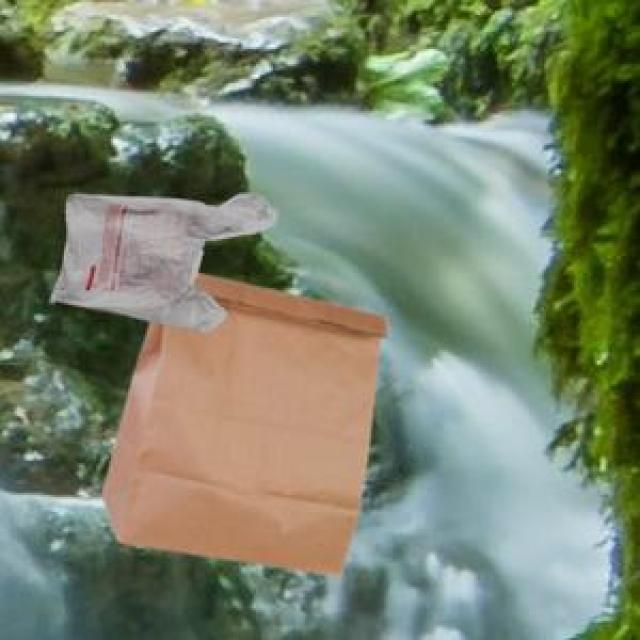paper: (98, 269, 384, 572)
